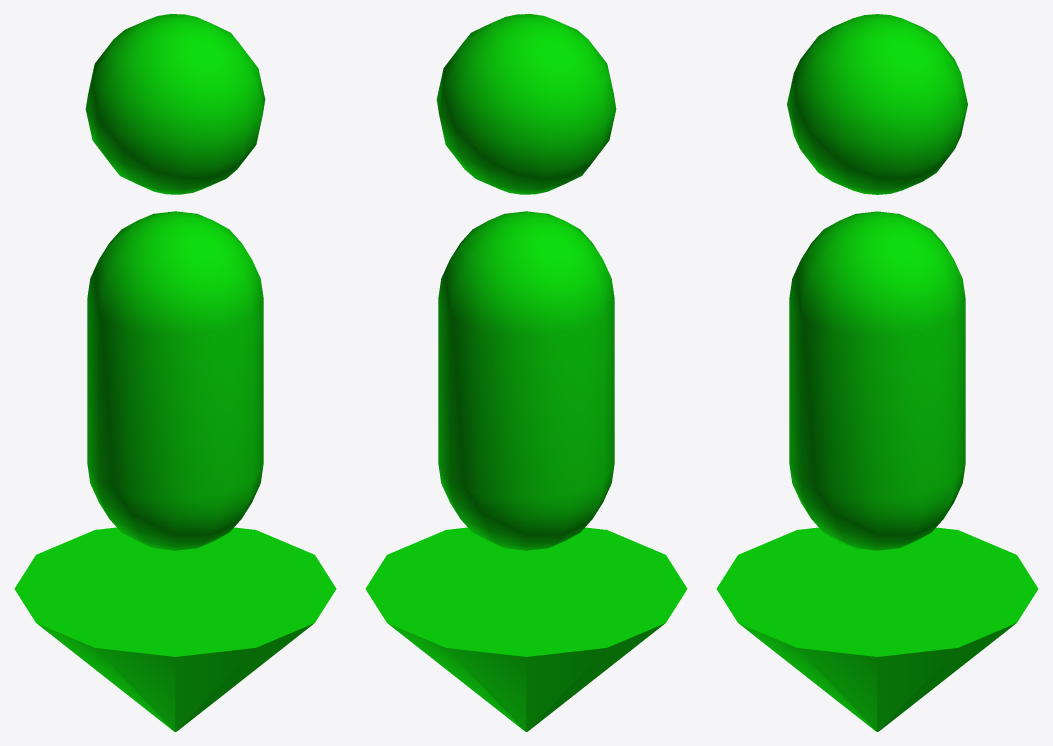
Rendered from MapCursor.FBX.
The picture shows the model from 3 angles, left to right: view 1: azimuth 30°, elevation 25°; view 2: azimuth 150°, elevation 25°; view 3: azimuth 270°, elevation 25°; orthographic projection.
Visible parts, largest first — view 1: MapCursor; view 2: MapCursor; view 3: MapCursor.
Part boxes in pixels (box(x1,y1,x2,y2)): MapCursor: box(14, 14, 336, 731); MapCursor: box(365, 14, 687, 731); MapCursor: box(716, 14, 1038, 731).
Bounding box in the file's own units: 0.5368 × 1.3 × 0.5368.
